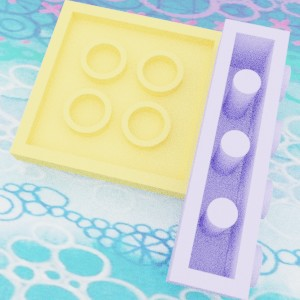lego: (9, 0, 228, 201), (165, 18, 290, 300)
